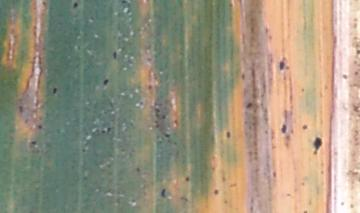tarspot: (273, 56, 289, 74), (311, 133, 323, 156), (278, 121, 289, 136), (109, 47, 120, 61), (243, 99, 254, 112), (70, 1, 81, 12), (35, 120, 44, 133), (212, 184, 220, 197), (102, 76, 110, 89), (30, 136, 38, 149), (340, 72, 350, 82), (183, 173, 192, 184), (224, 128, 232, 140), (160, 188, 168, 200), (50, 86, 59, 96), (134, 166, 143, 176), (271, 168, 278, 179), (301, 123, 309, 131), (118, 1, 130, 6), (299, 86, 306, 94), (241, 73, 246, 83), (302, 209, 309, 213)
